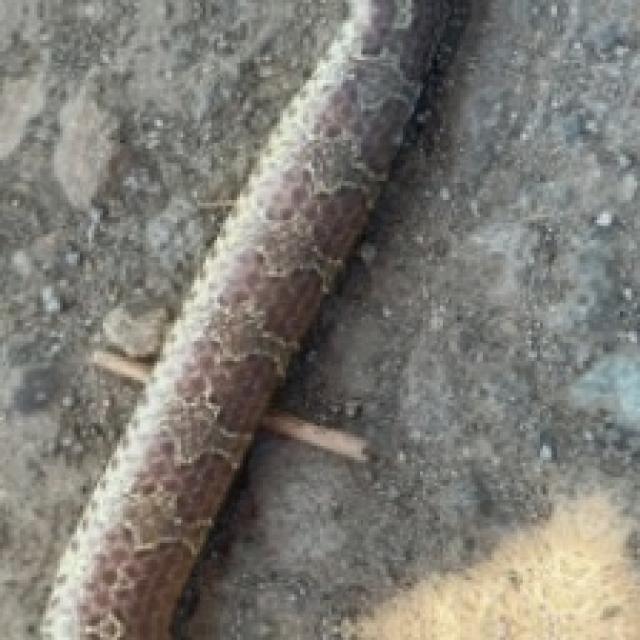mullers wolf snake: (180, 0, 637, 637), (40, 0, 454, 637), (0, 0, 331, 637), (49, 74, 120, 211)
